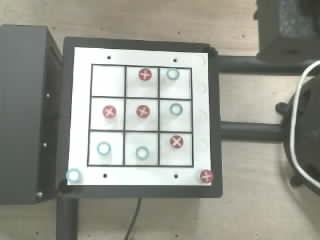blue circle: (97, 141, 111, 156), (136, 146, 150, 160), (170, 103, 182, 115), (167, 68, 179, 79), (70, 173, 77, 179)
board: (65, 46, 213, 186)
cells: (89, 132, 122, 164), (125, 133, 157, 165), (159, 100, 191, 131), (125, 99, 157, 130), (91, 98, 123, 129), (160, 134, 191, 165), (92, 66, 124, 96), (160, 68, 190, 98), (127, 67, 157, 97)
grid: (87, 64, 193, 167)
red cross: (103, 105, 116, 118), (200, 170, 213, 183), (170, 136, 183, 148), (136, 105, 149, 117), (139, 68, 151, 80)
